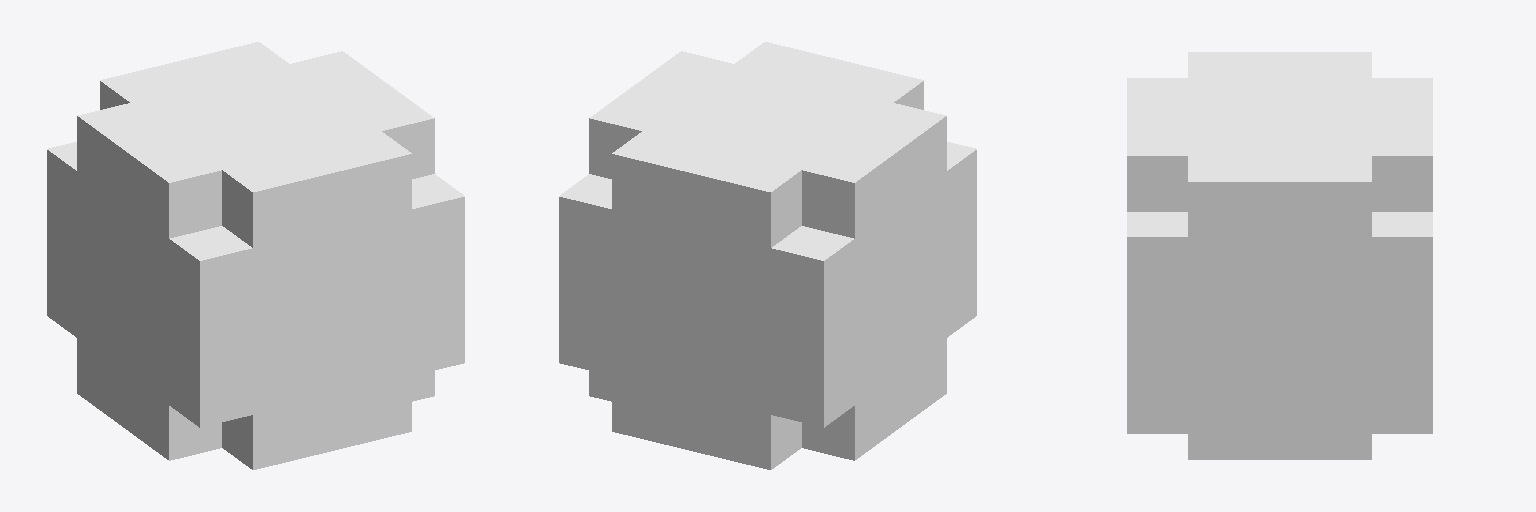
Rendered from IceCube.obj.
The picture shows the model from 3 angles: view 1: azimuth 30°, elevation 25°; view 2: azimuth 150°, elevation 25°; view 3: azimuth 270°, elevation 25°; orthographic projection.
Parts seen in each view (by area): view 1: object 1; view 2: object 1; view 3: object 1.
Boxes of the visible parts, x1=… form: object 1: x1=47, y1=42, x2=464, y2=469; object 1: x1=559, y1=42, x2=976, y2=469; object 1: x1=1127, y1=52, x2=1432, y2=459.
Bounding box in the file's own units: 0.5 × 0.5 × 0.5.